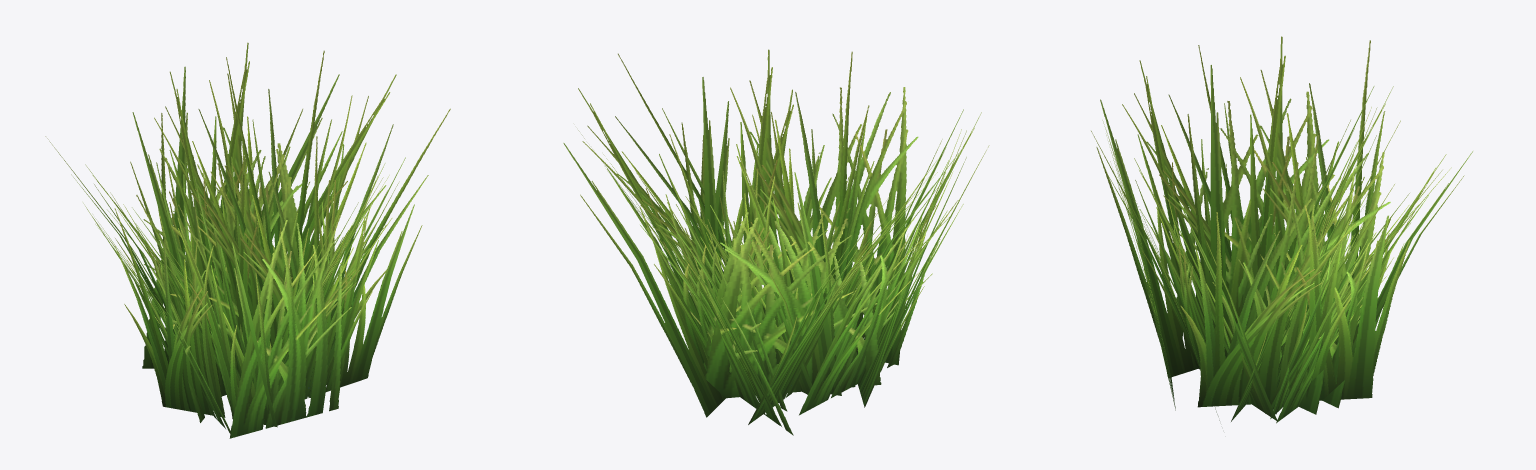
File: Grass_Meadow_A.fbx
The picture shows the model from 3 angles, left to right: view 1: azimuth 30°, elevation 25°; view 2: azimuth 150°, elevation 25°; view 3: azimuth 270°, elevation 25°; orthographic projection. The views are drawn at different scales.
Parts seen in each view (by area): view 1: Grass_Meadow_A_LOD0; view 2: Grass_Meadow_A_LOD0; view 3: Grass_Meadow_A_LOD0.
Part boxes in pixels (box(x1,y1,x2,y2)): Grass_Meadow_A_LOD0: box(45, 42, 450, 438); Grass_Meadow_A_LOD0: box(563, 49, 989, 435); Grass_Meadow_A_LOD0: box(1091, 36, 1472, 423).
Size of what is drawn, in the model's own units: 0.6681 by 0.4896 by 0.6631.
